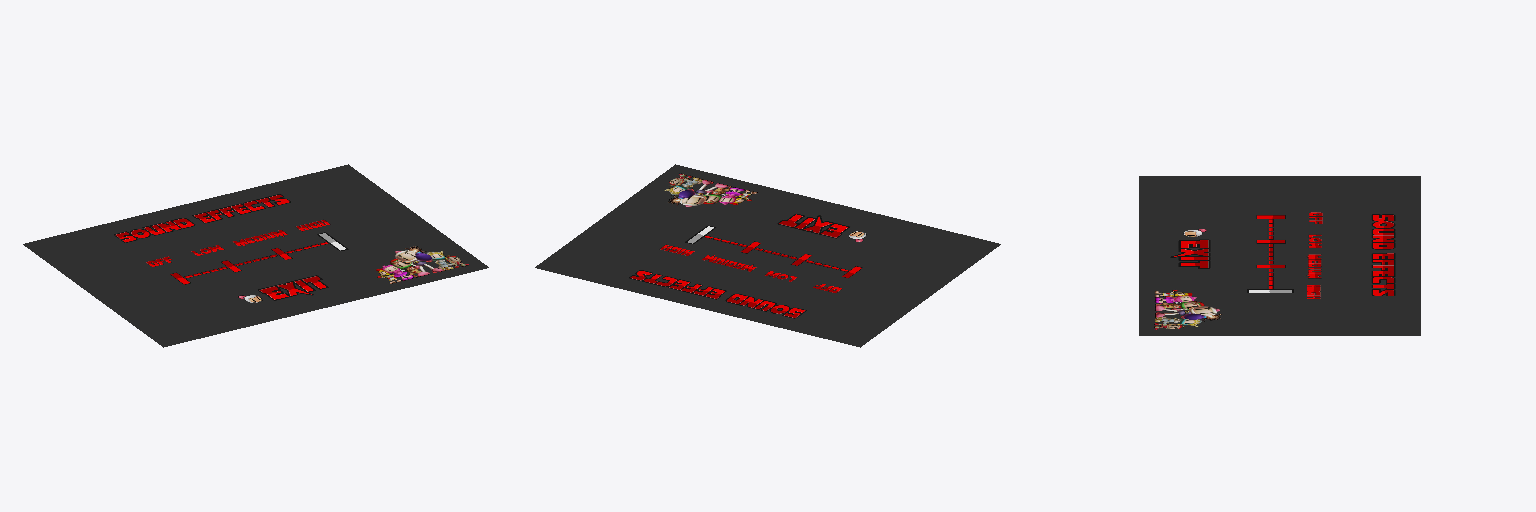
3 views of the same model, side by side, from view 1: azimuth 30°, elevation 25°; view 2: azimuth 150°, elevation 25°; view 3: azimuth 270°, elevation 25° (orthographic).
Visible parts, largest first — view 1: Plane; view 2: Plane; view 3: Plane.
Part boxes in pixels (x1,y1,x2,y2): Plane: (23, 164, 488, 347); Plane: (535, 164, 1000, 347); Plane: (1139, 176, 1420, 335).
Bounding box in the file's own units: 16 × 0 × 12.
1 materials, 1 textured.